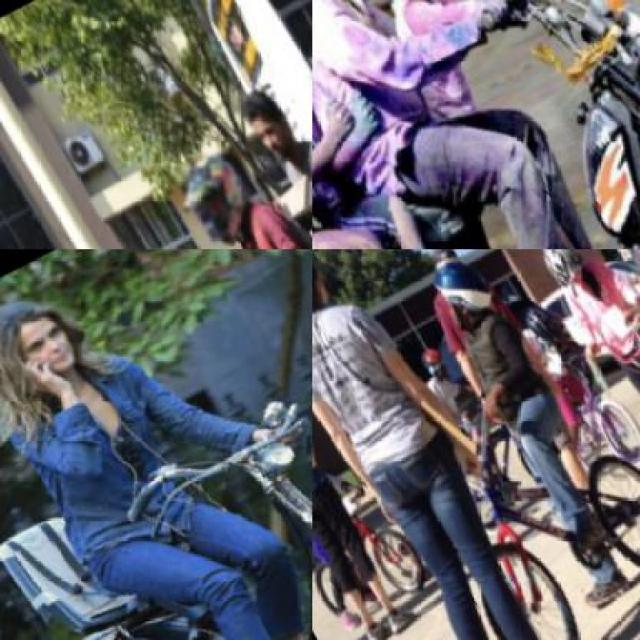With Helmet: (157, 134, 272, 248), (422, 249, 503, 334), (526, 250, 596, 298), (408, 334, 454, 386)
Without Helmet: (0, 276, 94, 392), (230, 77, 304, 168)
